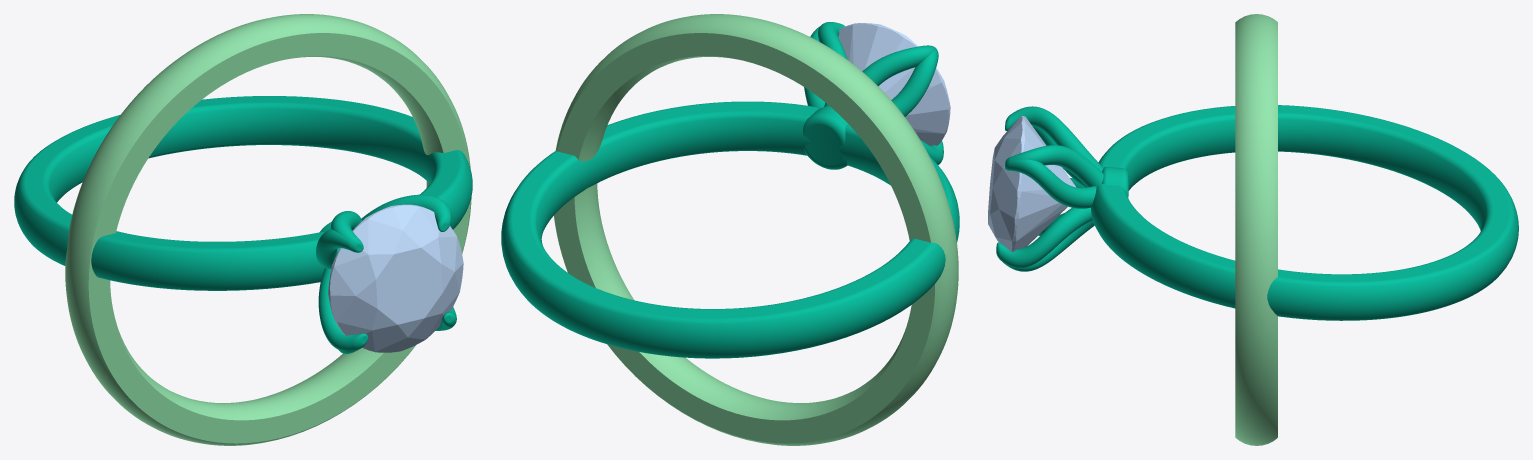
3 views of the same model, side by side, from view 1: azimuth 30°, elevation 25°; view 2: azimuth 150°, elevation 25°; view 3: azimuth 270°, elevation 25° (orthographic). The views are drawn at different scales.
Parts seen in each view (by area): view 1: 1.3dm, Diamond_Round; view 2: 1.3dm, Diamond_Round; view 3: 1.3dm, Diamond_Round.
Part boxes in pixels (x1,y1,x2,y2): 1.3dm: (14,14,472,445); Diamond_Round: (328,204,463,352); 1.3dm: (501,14,959,445); Diamond_Round: (838,23,950,145); 1.3dm: (996,14,1518,445); Diamond_Round: (988,116,1075,251).
Size of the model in its own units: 2.47 by 2.47 by 3.04.
